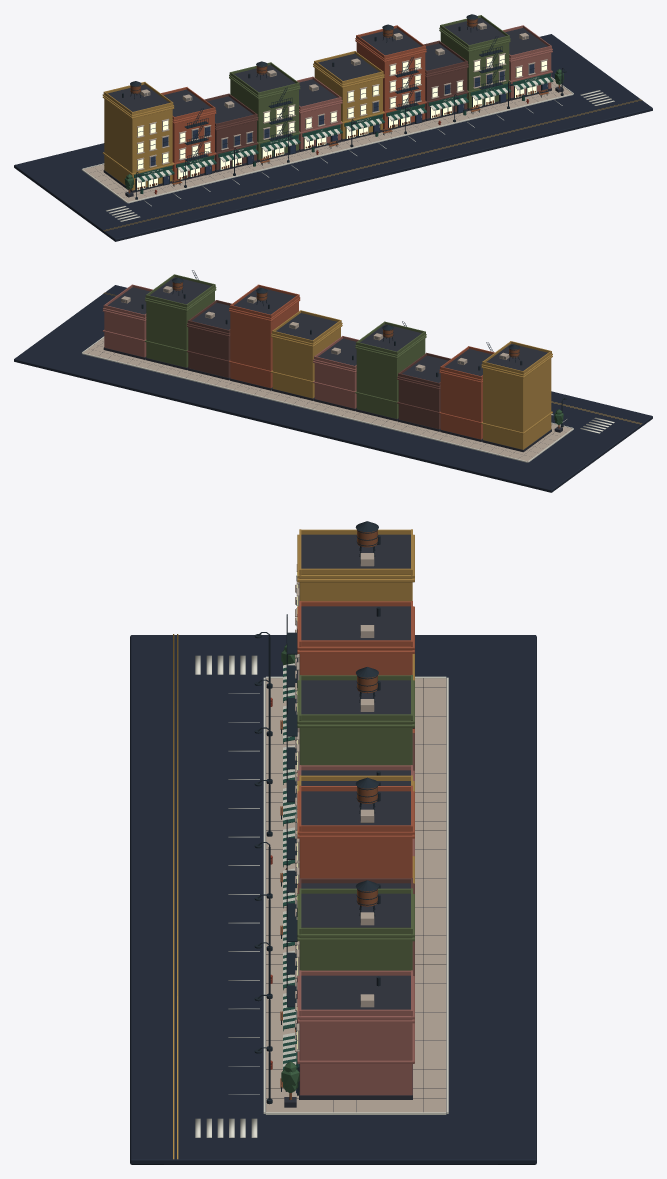
Rendered from city-walk.glb.
3 renders of one model, top to bottom at view 1: azimuth 30°, elevation 25°; view 2: azimuth 150°, elevation 25°; view 3: azimuth 270°, elevation 25°, orthographic. The views are drawn at different scales.
Parts seen in each view (by area): view 1: Blue asphalt, Roof felt, Warm limestone, Ochre facade, Olive facade, Ironwork, Terracotta facade, Warm windows, Road paint, Brick facade, Awning green, Rose facade (+3 smaller); view 2: Blue asphalt, Ochre facade, Roof felt, Olive facade, Terracotta facade, Warm limestone, Brick facade, Rose facade, Road paint, Ironwork, Bench timber; view 3: Blue asphalt, Roof felt, Warm limestone, Olive facade, Terracotta facade, Rose facade, Road paint, Ironwork, Ochre facade, Centre lines, Awning green, Bench timber (+1 smaller).
Boxes of the visible parts, x1,y1,x2,y2 form: Blue asphalt: [14, 34, 652, 241]; Roof felt: [102, 18, 563, 197]; Warm limestone: [83, 22, 571, 202]; Ochre facade: [102, 51, 384, 190]; Olive facade: [229, 15, 510, 159]; Ironwork: [122, 14, 566, 199]; Terracotta facade: [161, 25, 426, 179]; Warm windows: [137, 54, 546, 190]; Road paint: [81, 77, 614, 221]; Brick facade: [204, 40, 468, 169]; Awning green: [134, 73, 553, 193]; Rose facade: [296, 25, 552, 149]; Blue asphalt: [14, 285, 652, 492]; Ochre facade: [271, 310, 552, 449]; Roof felt: [88, 277, 562, 452]; Olive facade: [145, 274, 426, 418]; Terracotta facade: [229, 284, 494, 439]; Warm limestone: [83, 286, 572, 461]; Brick facade: [187, 300, 450, 429]; Rose facade: [102, 284, 358, 408]; Road paint: [81, 336, 614, 462]; Ironwork: [121, 270, 566, 427]; Bench timber: [172, 282, 559, 428]; Blue asphalt: [130, 635, 536, 1164]; Roof felt: [265, 534, 446, 1111]; Warm limestone: [266, 553, 446, 1112]; Olive facade: [297, 675, 414, 970]; Terracotta facade: [297, 601, 414, 878]; Rose facade: [297, 765, 414, 1095]; Road paint: [195, 655, 448, 1137]; Ironwork: [254, 521, 380, 1104]; Ochre facade: [297, 529, 414, 883]; Centre lines: [173, 634, 178, 1159]; Awning green: [283, 667, 298, 1069]; Bench timber: [280, 530, 377, 1099].
Size of the model in its own units: 110 by 19.26 by 36.
